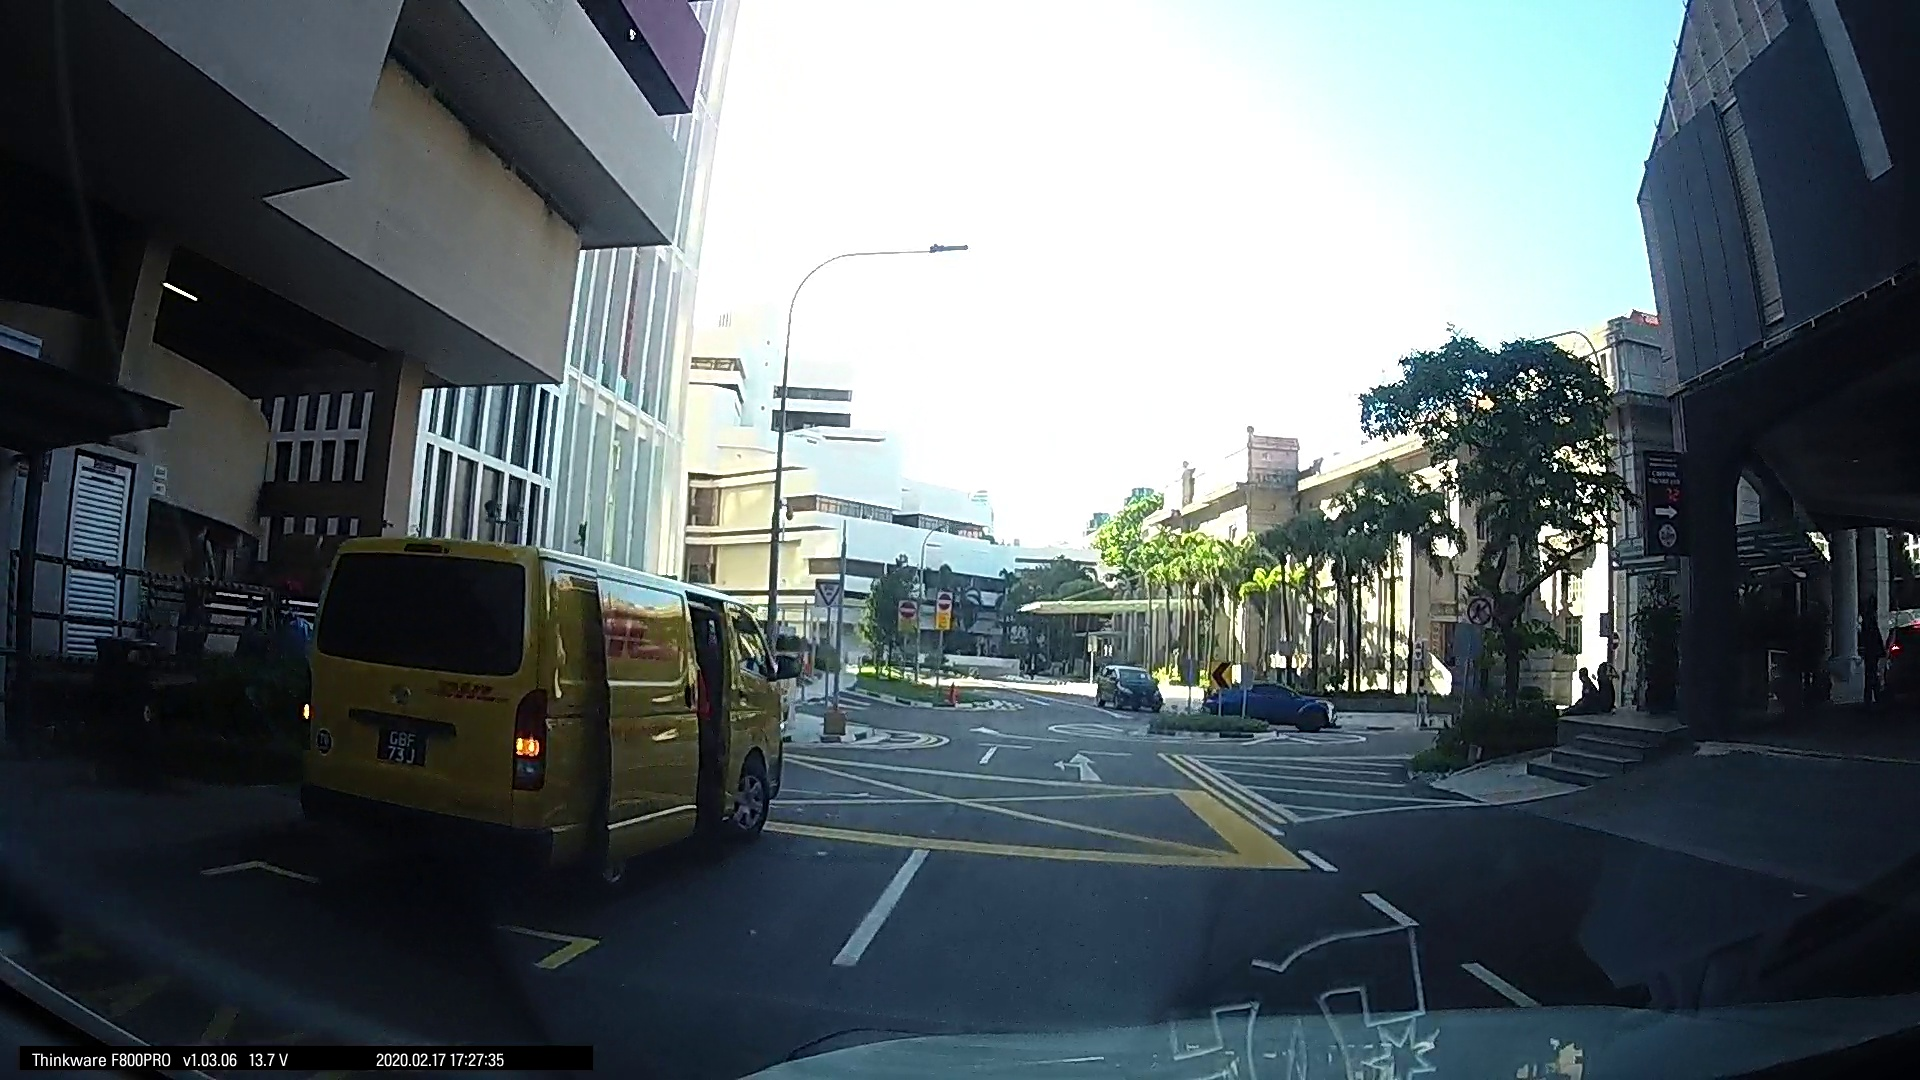Light Vehicle: (285, 535, 773, 882), (1199, 669, 1331, 735), (1095, 661, 1164, 709)
